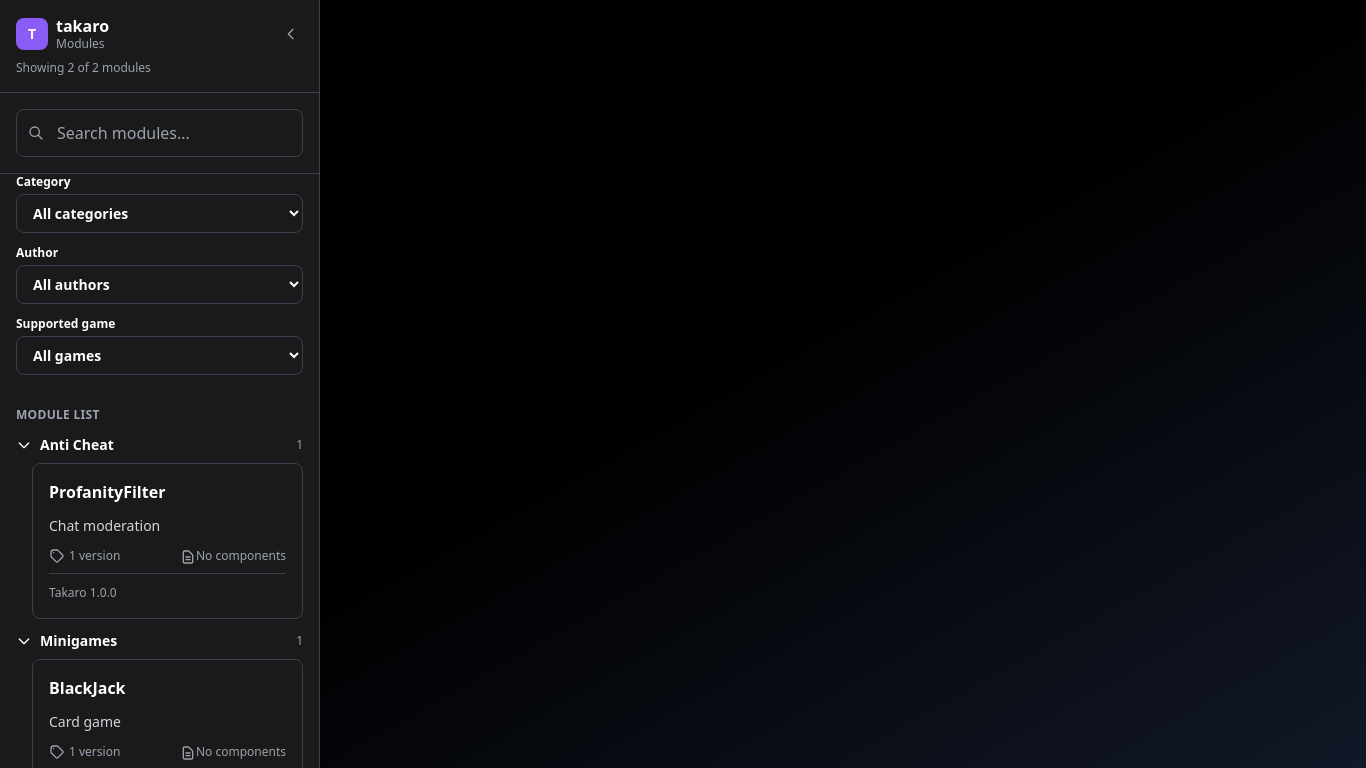
Scenario: ModuleSidebar filter controls › uses labeled select controls and summarizes active filters
Expected: the dropdown labelled "Author" shows "All authors", [16,265,303,304]
Expected: the dropdown labelled "Supported game" shows "All games", [16,336,303,375]
Select "Minigames (1)" in the dropdown labelled "Category" at point(160, 214), box [16,194,303,233]
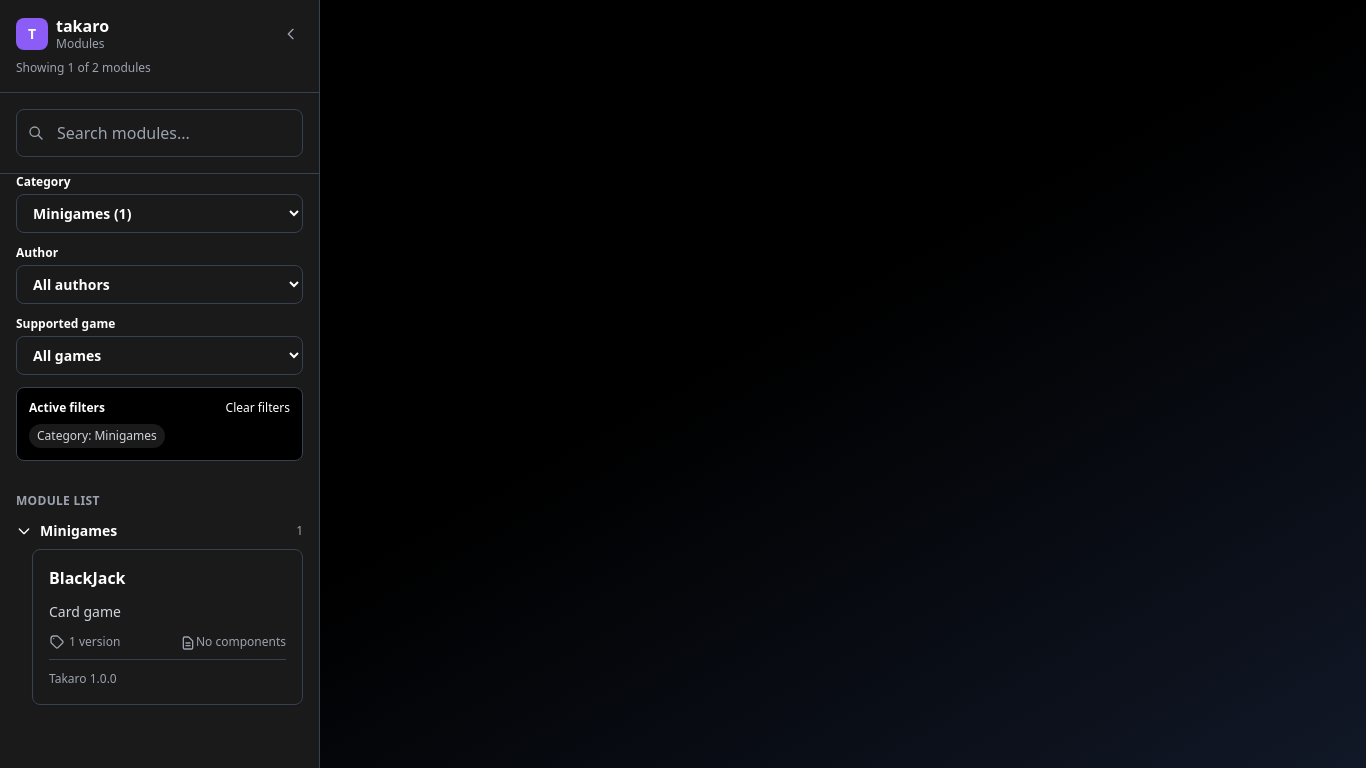
Expected: the text with test id "search-results-count" reads "Showing 1 of 2 modules", [16,59,151,76]
Expected: the text "Category: Minigames" is shown, [29,424,165,448]
Expected: the element with test id "category-group-anti-cheat" is gone
